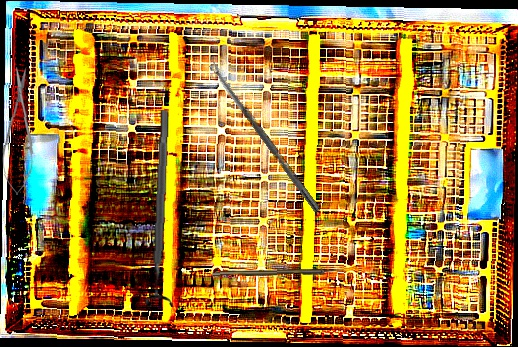Fixation Ring: (142, 109, 181, 308)
Hook Surgical: (211, 268, 343, 277)
Micro Scissor: (0, 66, 38, 196)
Surgical Spoon: (208, 61, 322, 213)
